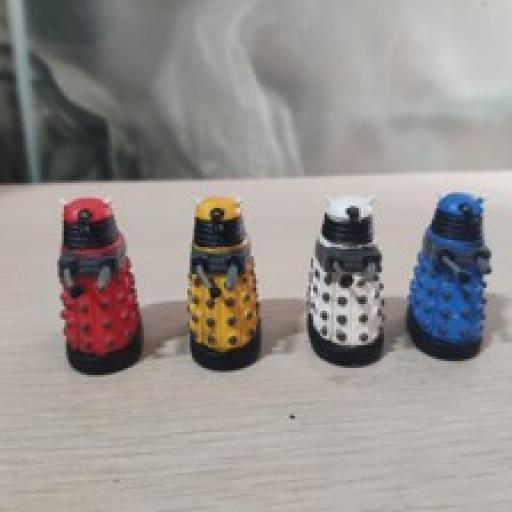dalek: (49, 196, 150, 378), (405, 192, 491, 360), (306, 193, 386, 365), (187, 195, 261, 371)
